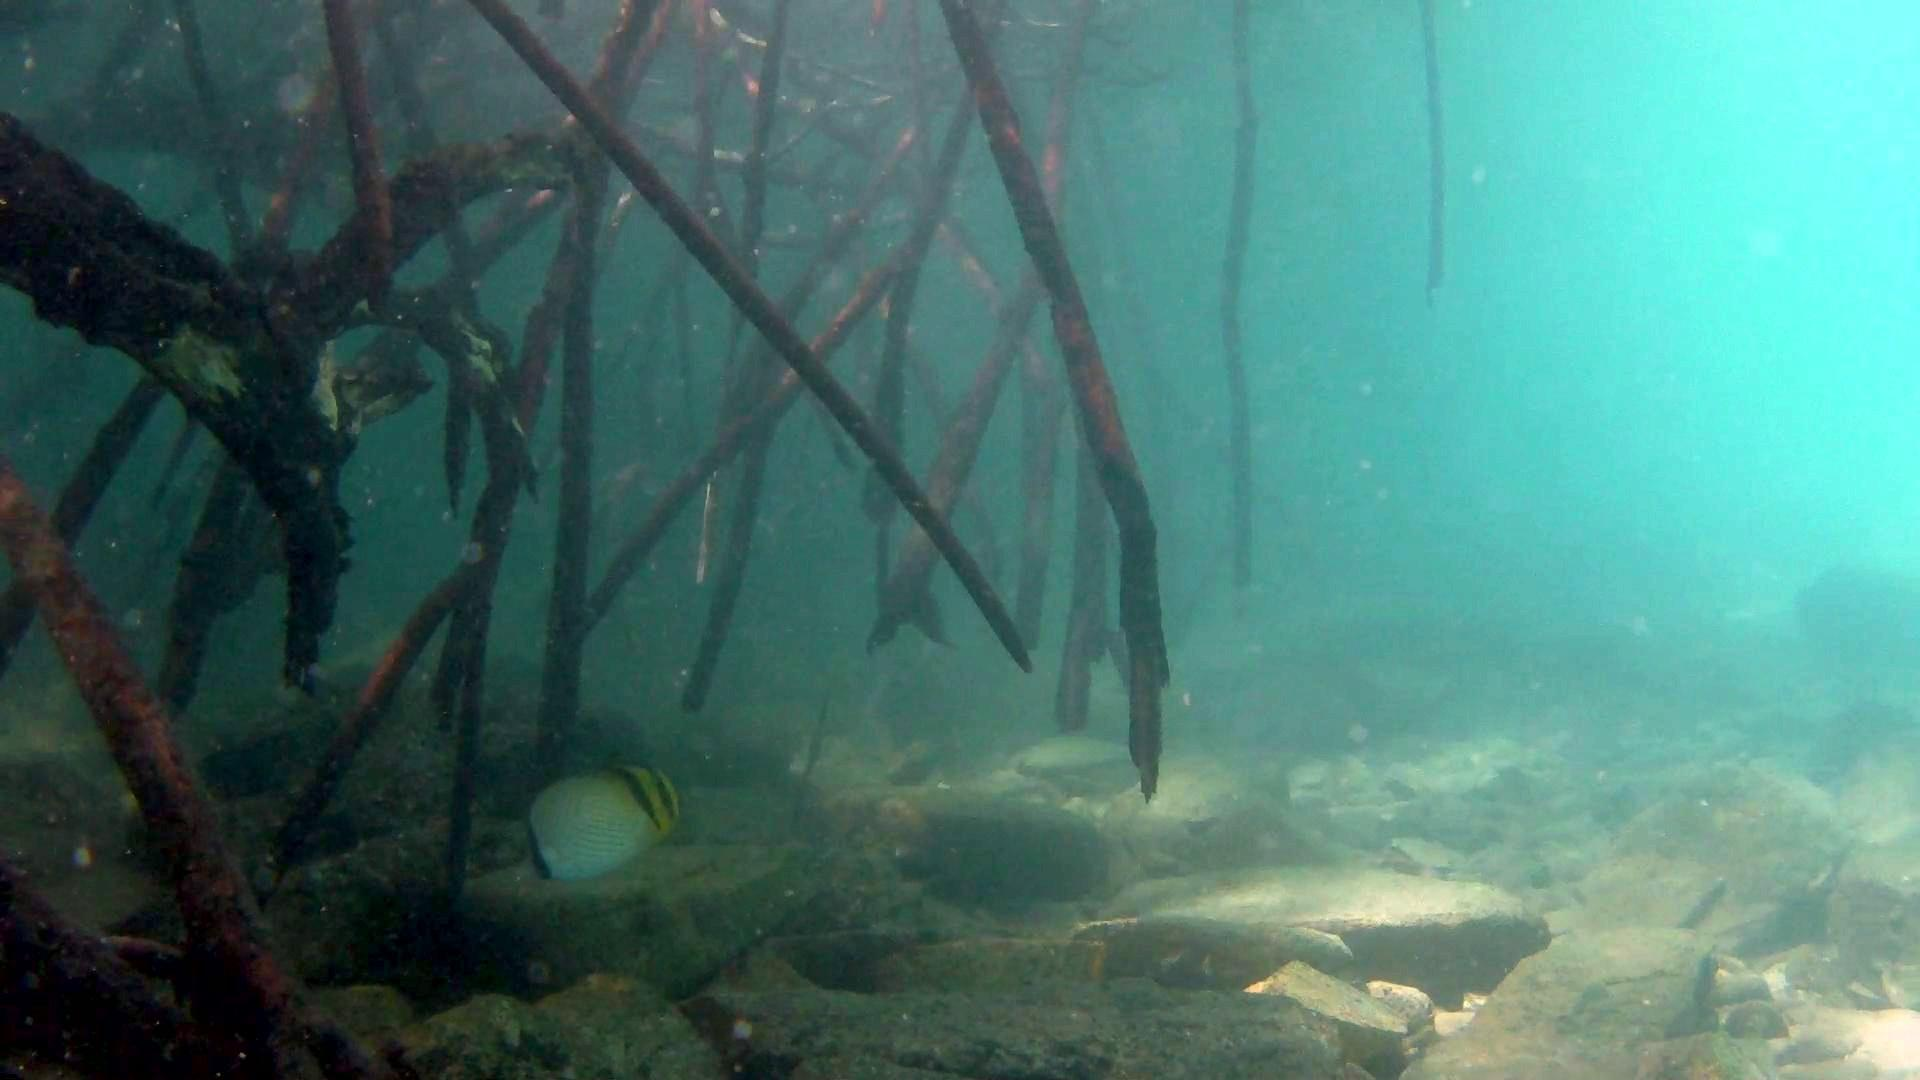chaetodon vagabundus: (514, 761, 682, 882)
